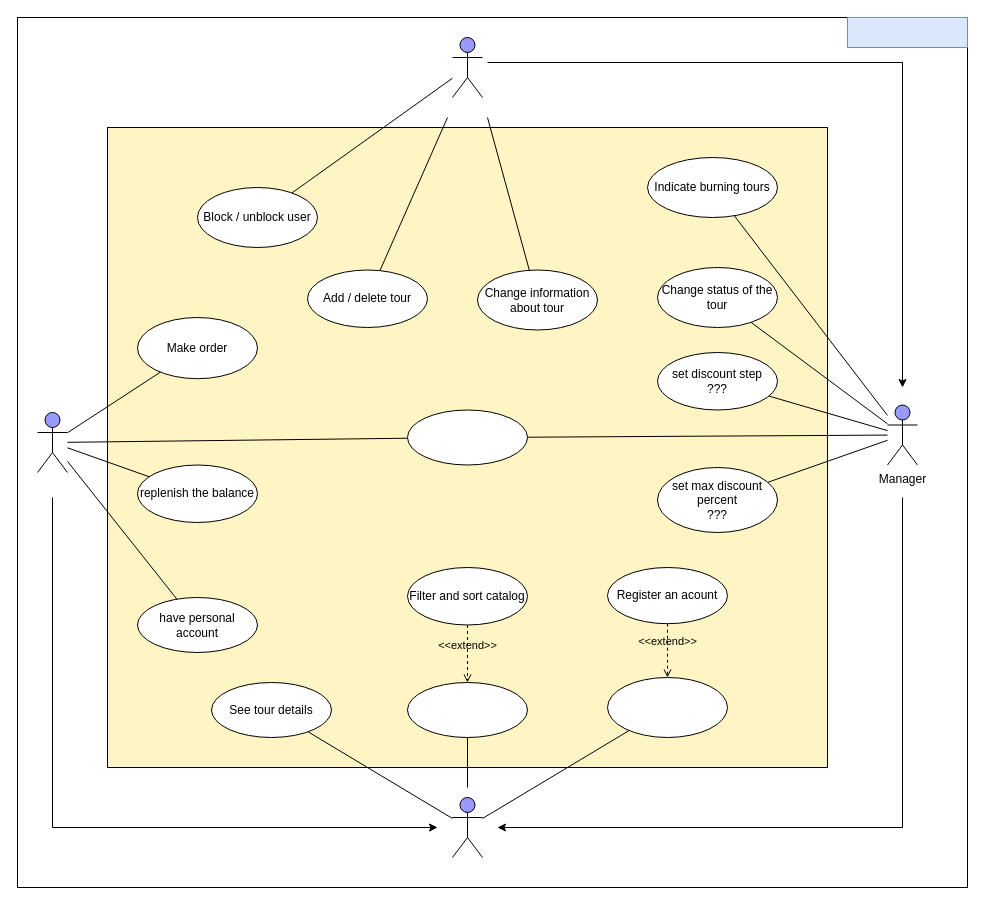
The diagram is 985 pixels wide and 905 high, and some of its shapes have lost their labels. Here are the shapes that lost their labels. From the top down, the centre of each, then its label:
the point at 907,32: Travel agency
the point at 467,67: Admin
the point at 52,442: User
the point at 467,437: Log out
the point at 467,710: Browse catalog
the point at 667,707: Log in
the point at 467,827: Guest
